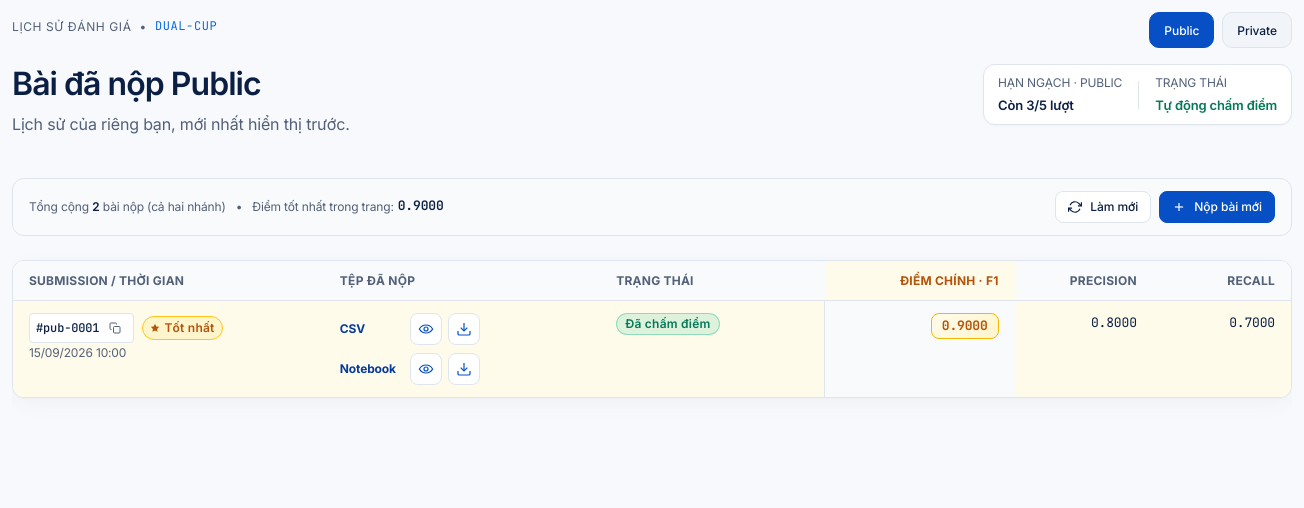
Test: dual lịch sử: lọc theo nhánh, bài Private chưa công bố không lộ điểm
This screenshot has width=1304, height=508.
Expected: the text "#pub-0001" is shown, [29,313,134,343]
Expected: the text "#pri-0001" is not shown
Click the button "Private". click: (1257, 30)
box: [1222,12,1292,48]
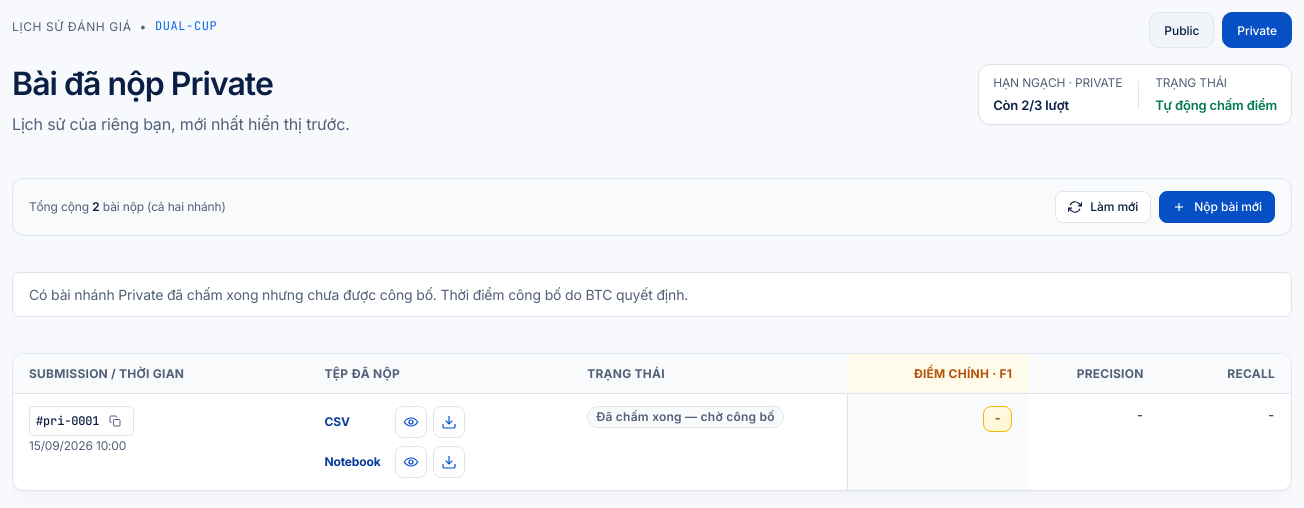
Now the text "#pri-0001" is shown, box [29,406,134,436]
Now the text "#pub-0001" is gone
Now the text "Đã chấm xong — chờ công bố" is shown, box [587,406,784,428]
